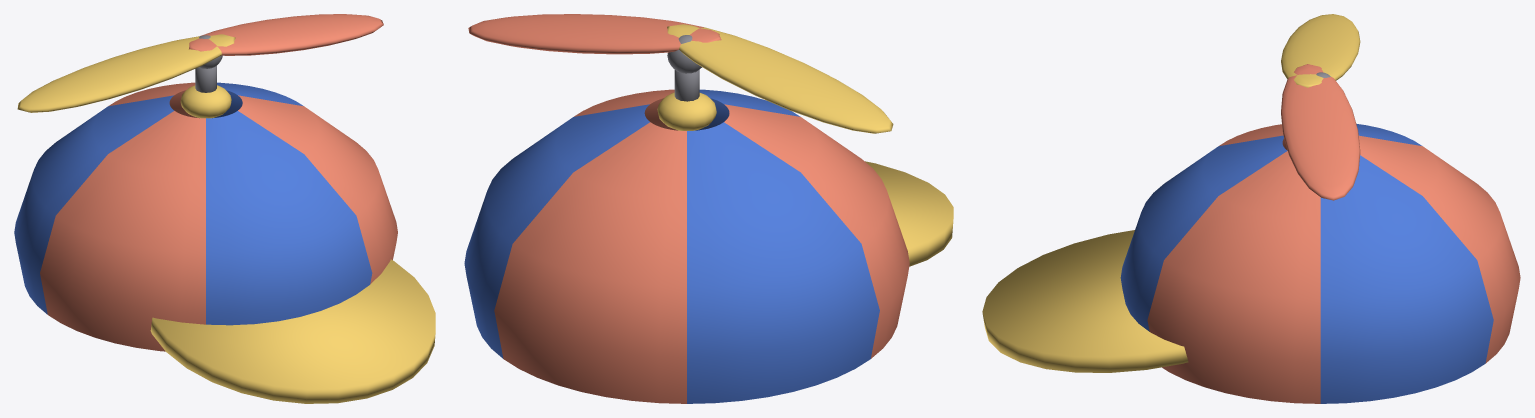
Rendered from propellercap.glb.
3 views of the same model, side by side, from view 1: azimuth 30°, elevation 25°; view 2: azimuth 150°, elevation 25°; view 3: azimuth 270°, elevation 25° (orthographic). The views are drawn at different scales.
Parts seen in each view (by area): view 1: propellercap_Panel3, propellercap_Panel4, propellercap_Brim, propellercap_Panel2, propellercap_Panel5, propellercap_Blade0, propellercap_Blade1, propellercap_TipDot, propellercap_Panel0, propellercap_Panel1, propellercap_Spindle; view 2: propellercap_Panel2, propellercap_Panel1, propellercap_Panel0, propellercap_Panel3, propellercap_Blade0, propellercap_Blade1, propellercap_Brim, propellercap_TipDot, propellercap_Panel5, propellercap_Panel4, propellercap_Spindle, propellercap_Hub; view 3: propellercap_Panel0, propellercap_Panel5, propellercap_Brim, propellercap_Panel1, propellercap_Panel4, propellercap_Blade1, propellercap_Blade0, propellercap_Panel3, propellercap_Panel2.
Boxes of the visible parts, <box> form: propellercap_Panel3: <box>40,111,205,351</box>; propellercap_Panel4: <box>206,111,372,325</box>; propellercap_Brim: <box>150,259,435,403</box>; propellercap_Panel2: <box>14,95,174,314</box>; propellercap_Panel5: <box>238,95,397,283</box>; propellercap_Blade0: <box>17,34,235,112</box>; propellercap_Blade1: <box>189,14,383,55</box>; propellercap_TipDot: <box>180,85,231,118</box>; propellercap_Panel0: <box>212,82,303,118</box>; propellercap_Panel1: <box>108,82,199,118</box>; propellercap_Spindle: <box>195,65,216,92</box>; propellercap_Panel2: <box>687,122,879,403</box>; propellercap_Panel1: <box>494,122,686,403</box>; propellercap_Panel0: <box>464,104,649,358</box>; propellercap_Panel3: <box>724,104,909,358</box>; propellercap_Blade0: <box>667,24,893,133</box>; propellercap_Blade1: <box>468,14,721,54</box>; propellercap_Brim: <box>865,161,953,266</box>; propellercap_TipDot: <box>657,92,716,130</box>; propellercap_Panel5: <box>574,89,677,130</box>; propellercap_Panel4: <box>695,89,800,130</box>; propellercap_Spindle: <box>674,69,699,101</box>; propellercap_Hub: <box>667,35,701,73</box>; propellercap_Panel0: <box>1320,155,1493,403</box>; propellercap_Panel5: <box>1147,151,1320,403</box>; propellercap_Brim: <box>982,230,1188,372</box>; propellercap_Panel1: <box>1359,135,1520,363</box>; propellercap_Panel4: <box>1120,135,1287,331</box>; propellercap_Blade1: <box>1281,64,1360,200</box>; propellercap_Blade0: <box>1281,14,1360,87</box>; propellercap_Panel3: <box>1219,124,1287,150</box>; propellercap_Panel2: <box>1356,124,1421,145</box>.
Bounding box in the file's own units: 0.3916 × 0.2502 × 0.4805.
